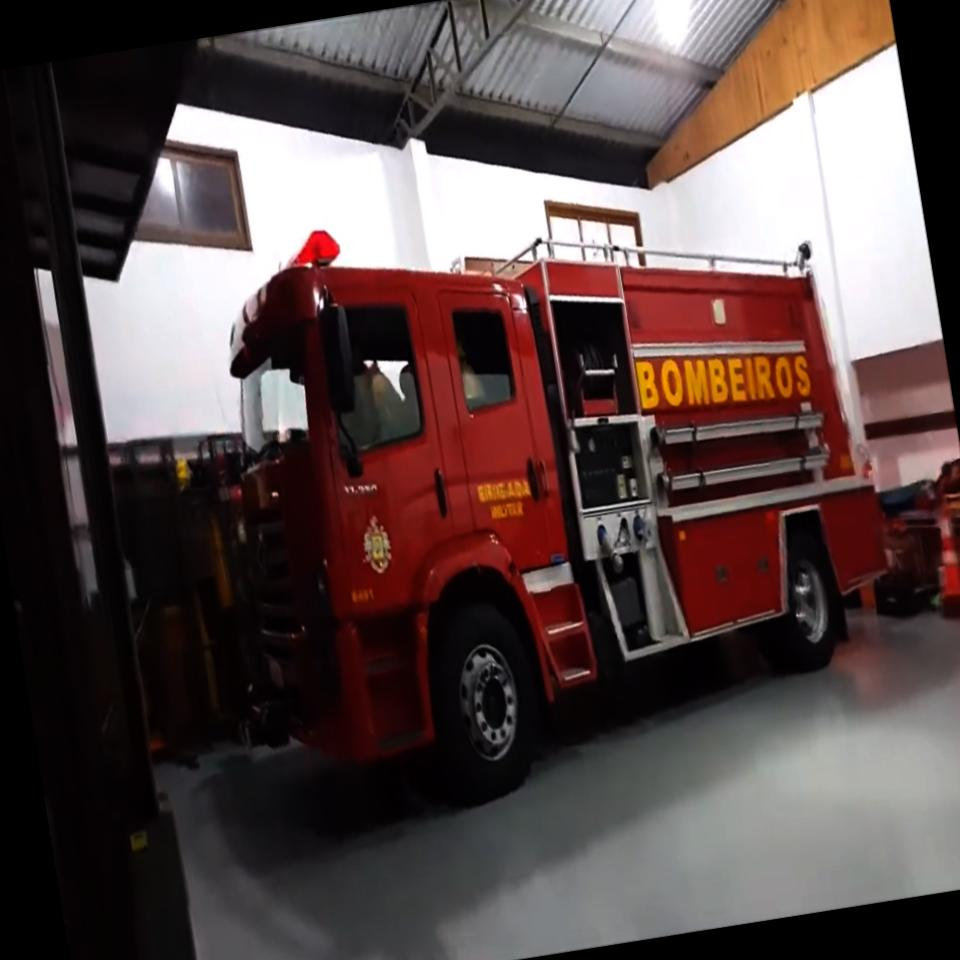viatura: (169, 150, 921, 844)
